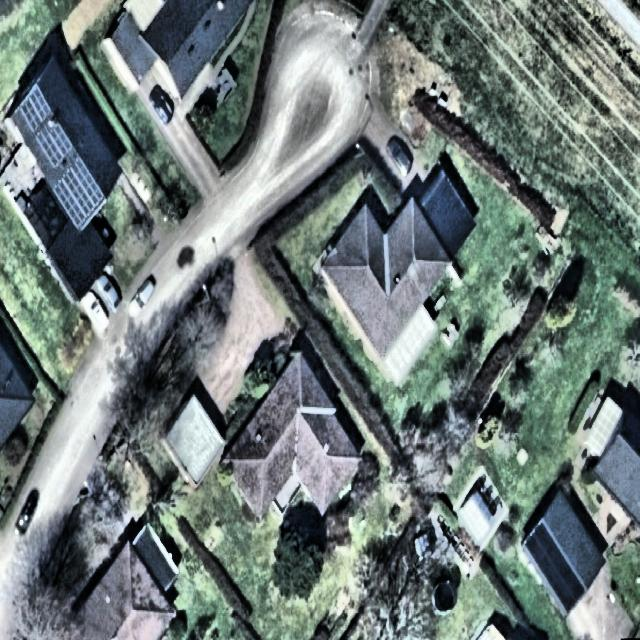roof_pv: (528, 522, 582, 612), (58, 157, 102, 225), (38, 126, 72, 169), (20, 87, 50, 133)
